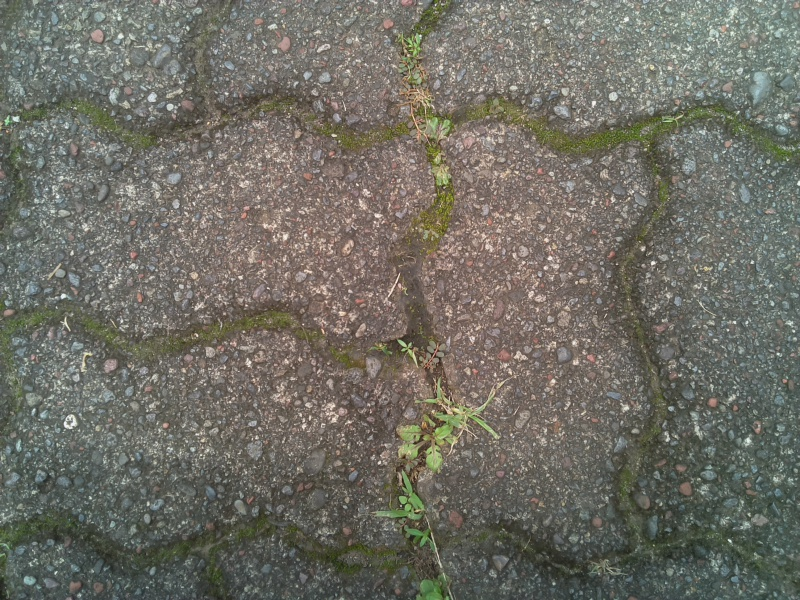Weed: (381, 411, 461, 475), (407, 115, 466, 193), (432, 387, 500, 446), (387, 28, 449, 88), (375, 330, 445, 375), (384, 464, 431, 525), (399, 571, 456, 600), (395, 521, 450, 551), (583, 553, 632, 586), (658, 108, 691, 134), (53, 311, 79, 341), (1, 110, 25, 134)
